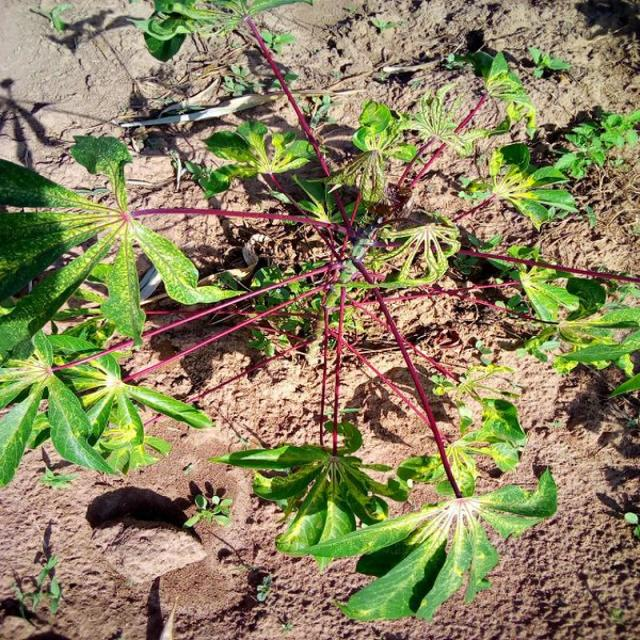cassava leaf: (294, 449, 558, 623)
